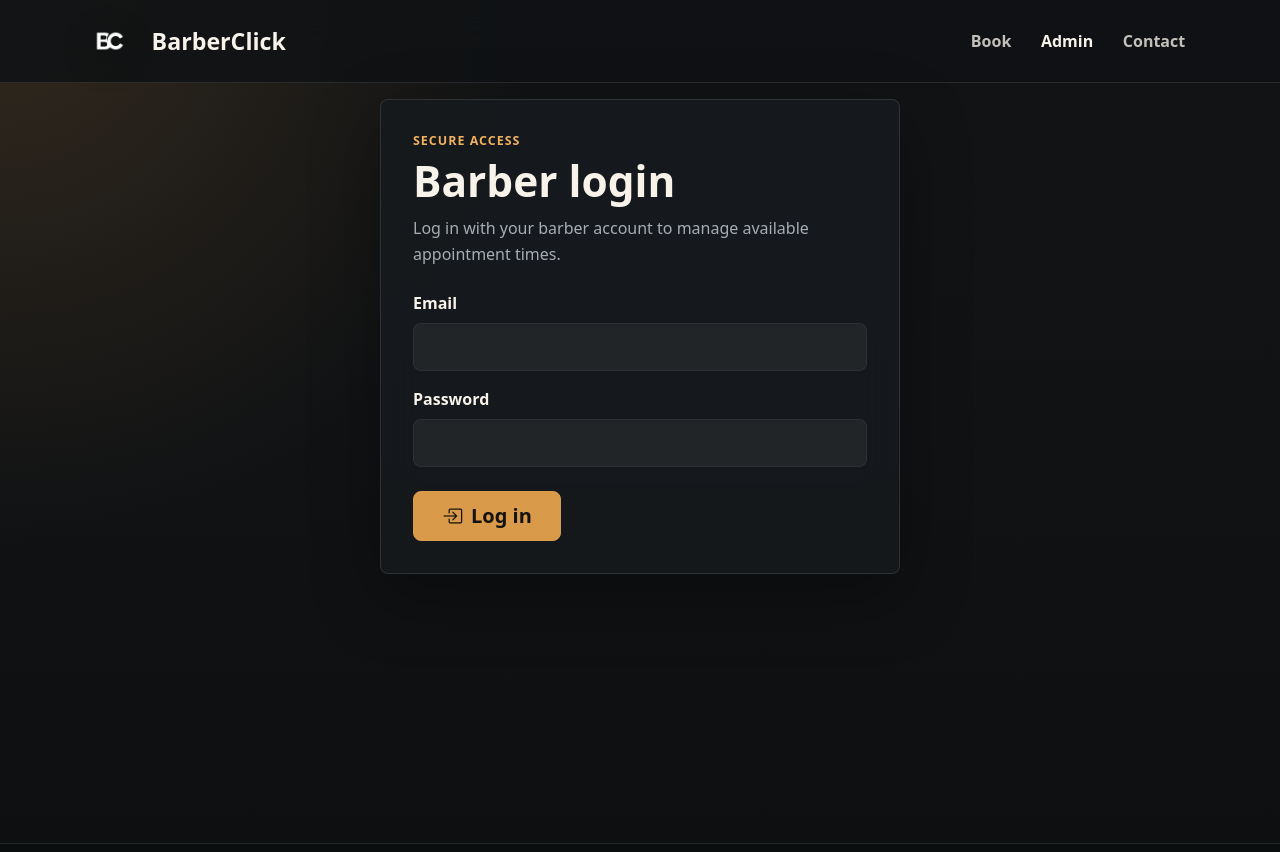
Scenario: shows availability tools after successful barber login
Type "barber@example.com" into the field labelled "Email" at point(640, 347), box x1=413 y1=323 x2=867 y2=371
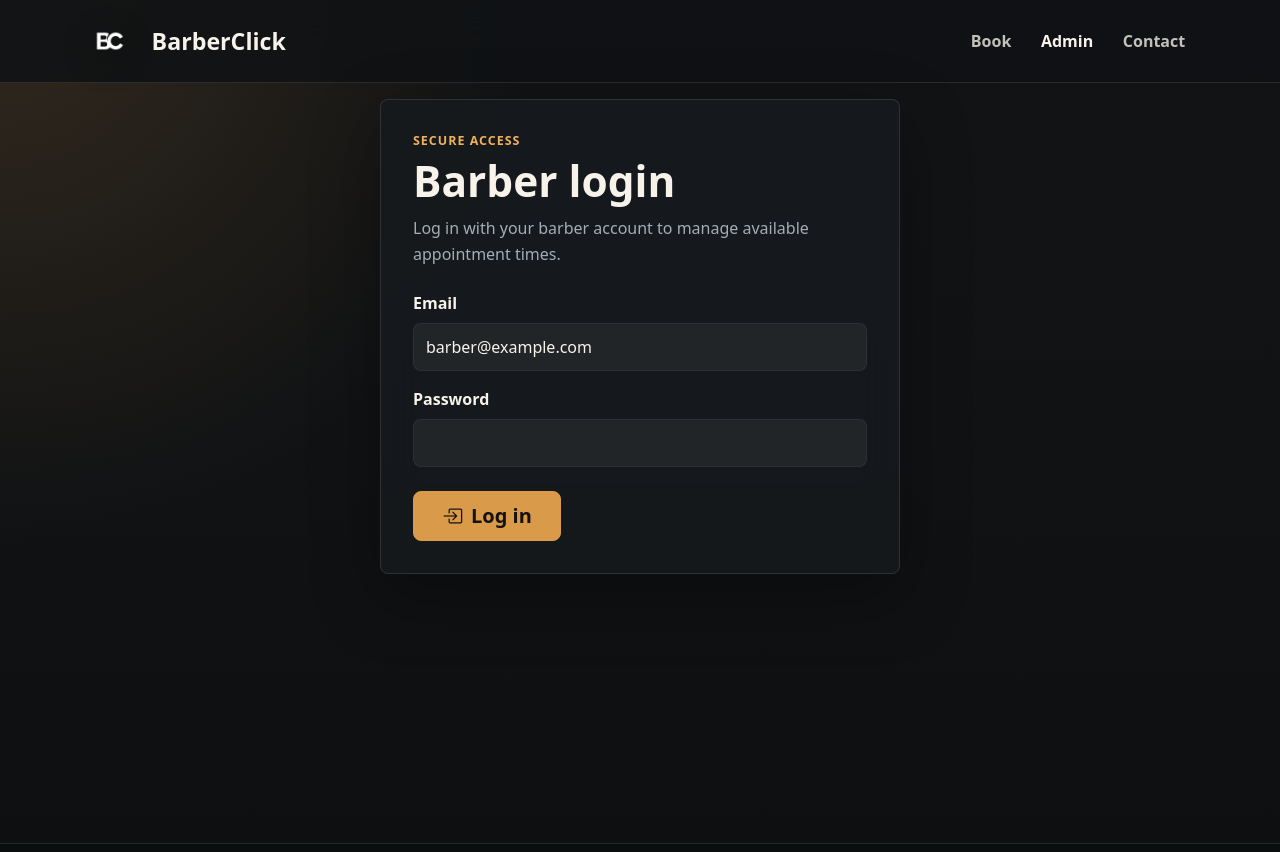
Type "secret" into the password field labelled "Password" at point(640, 443), box x1=413 y1=419 x2=867 y2=467
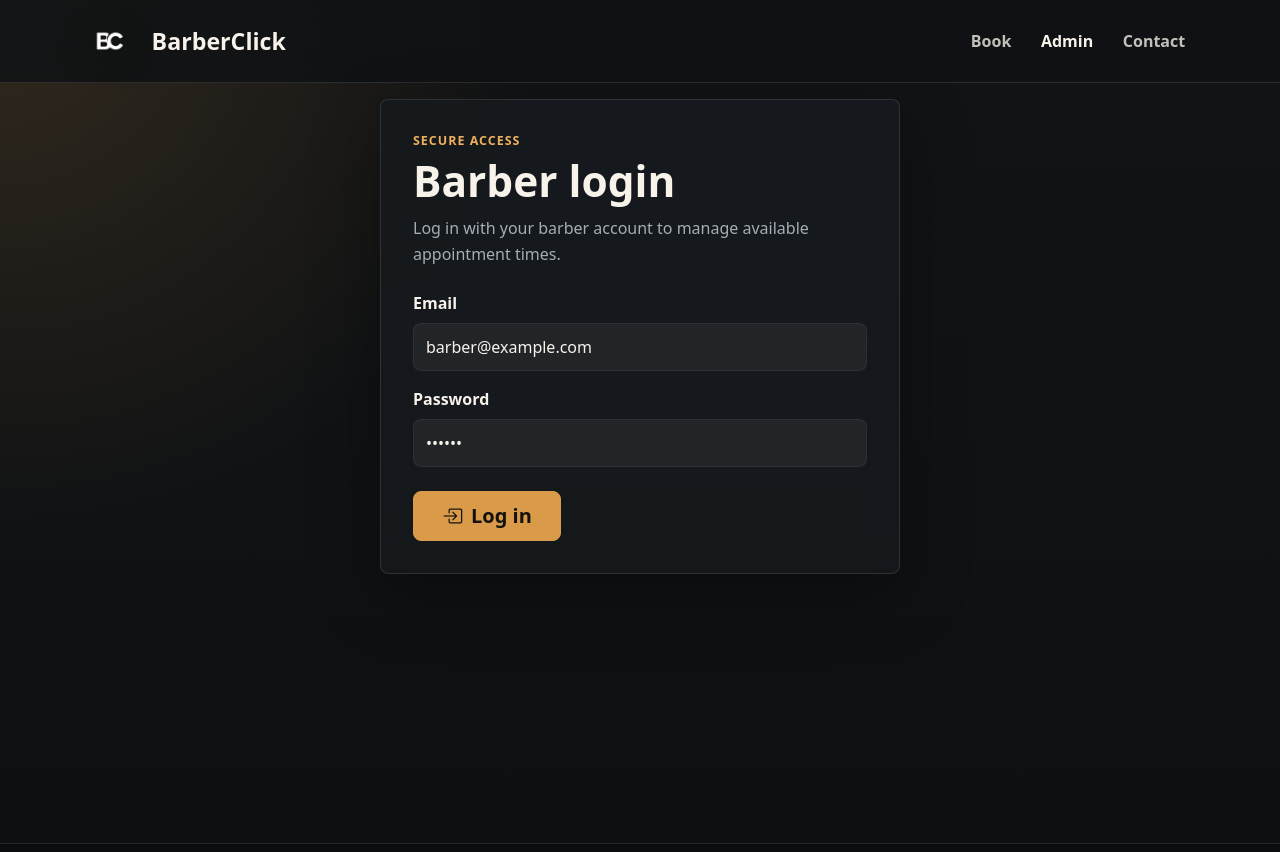
Click the button "Log in" at point(487, 516), box x1=413 y1=491 x2=561 y2=541
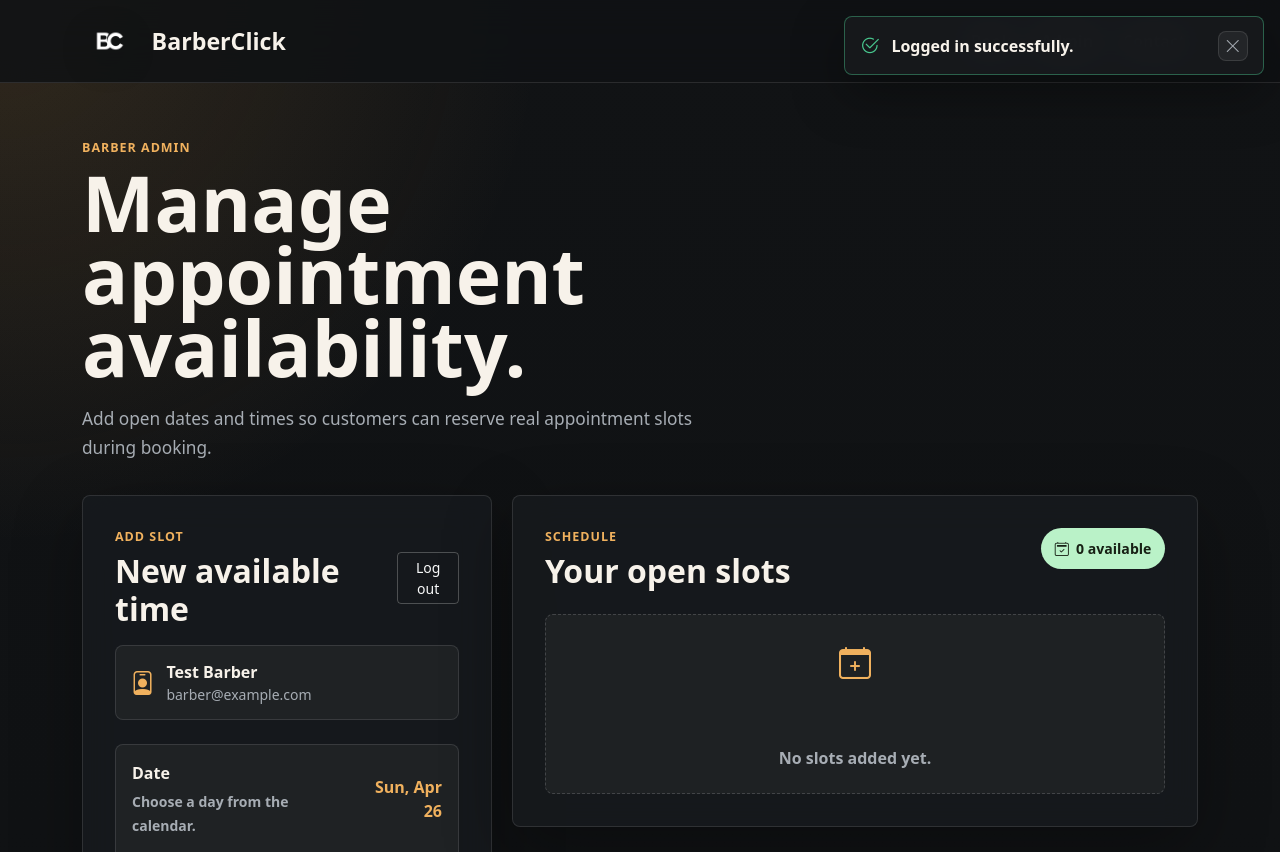
Result: the heading "New available time" is shown at x1=115 y1=549 x2=340 y2=630
Result: the text "Test Barber" is shown at x1=166 y1=661 x2=258 y2=683
